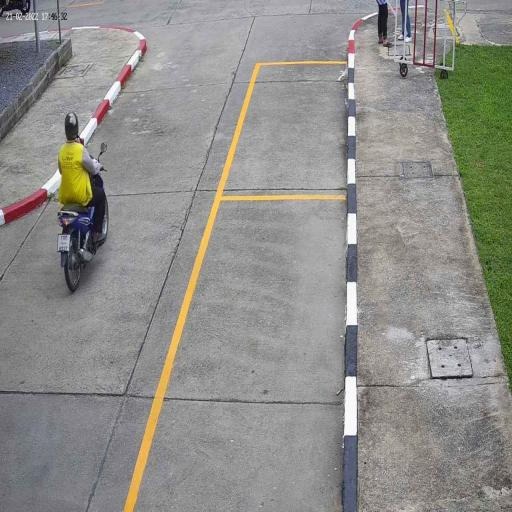motorcycle: (56, 204, 110, 294)
